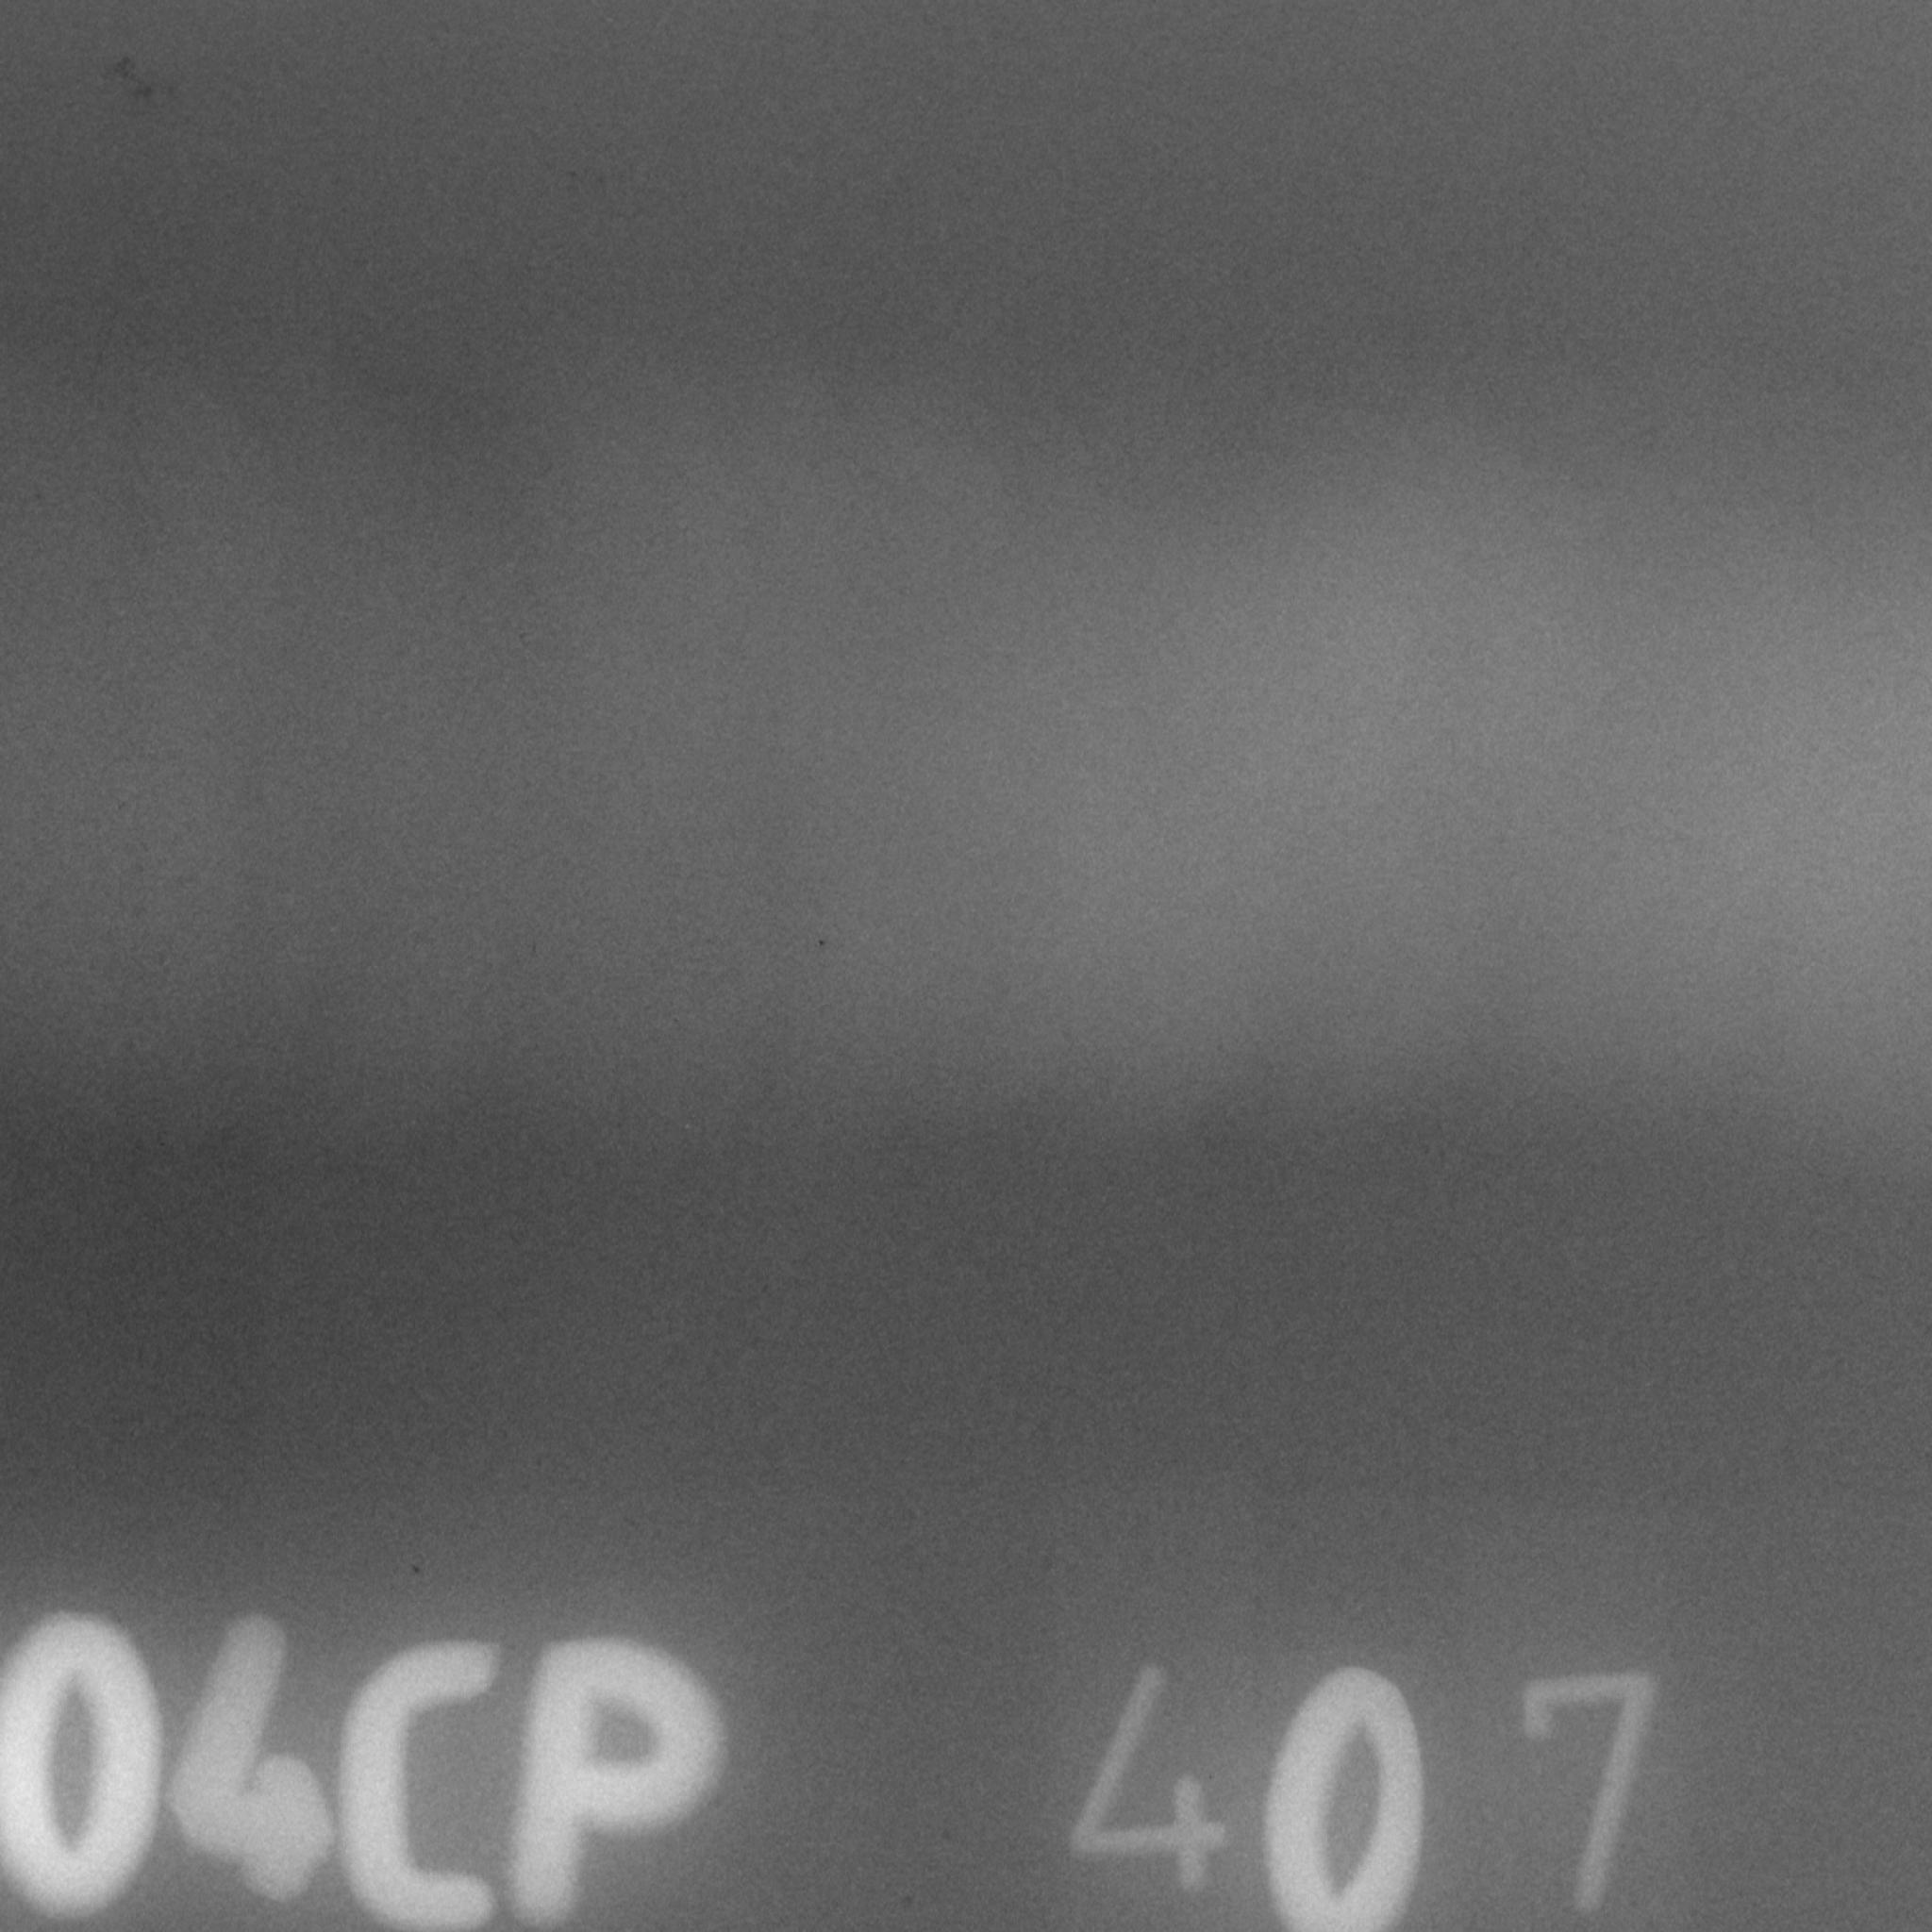PO: (105, 43, 142, 83), (125, 76, 163, 109), (25, 482, 53, 509), (811, 932, 832, 953)
